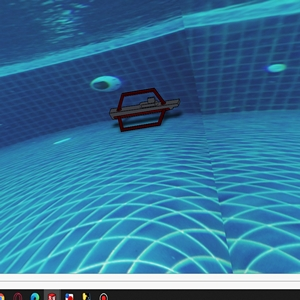submarine: (110, 84, 180, 136)
